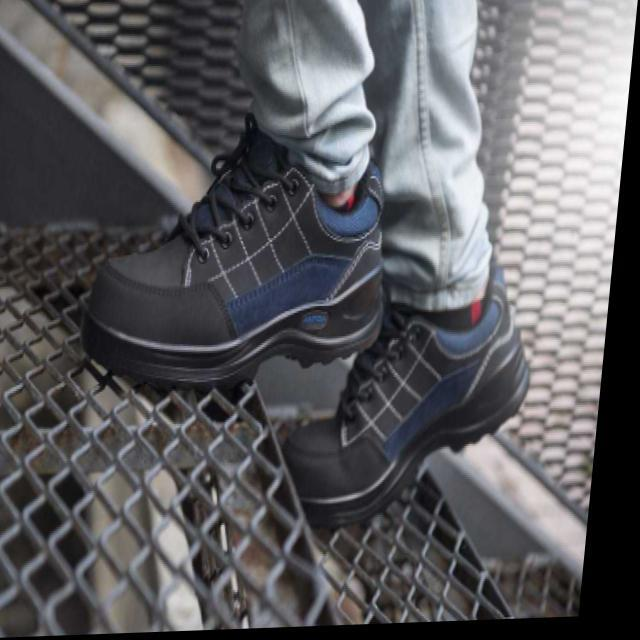shoes: (61, 94, 562, 543)
